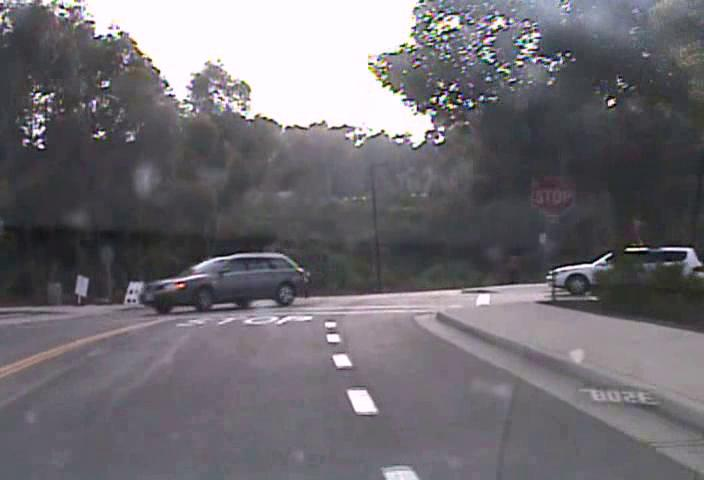stop: (531, 175, 575, 218)
